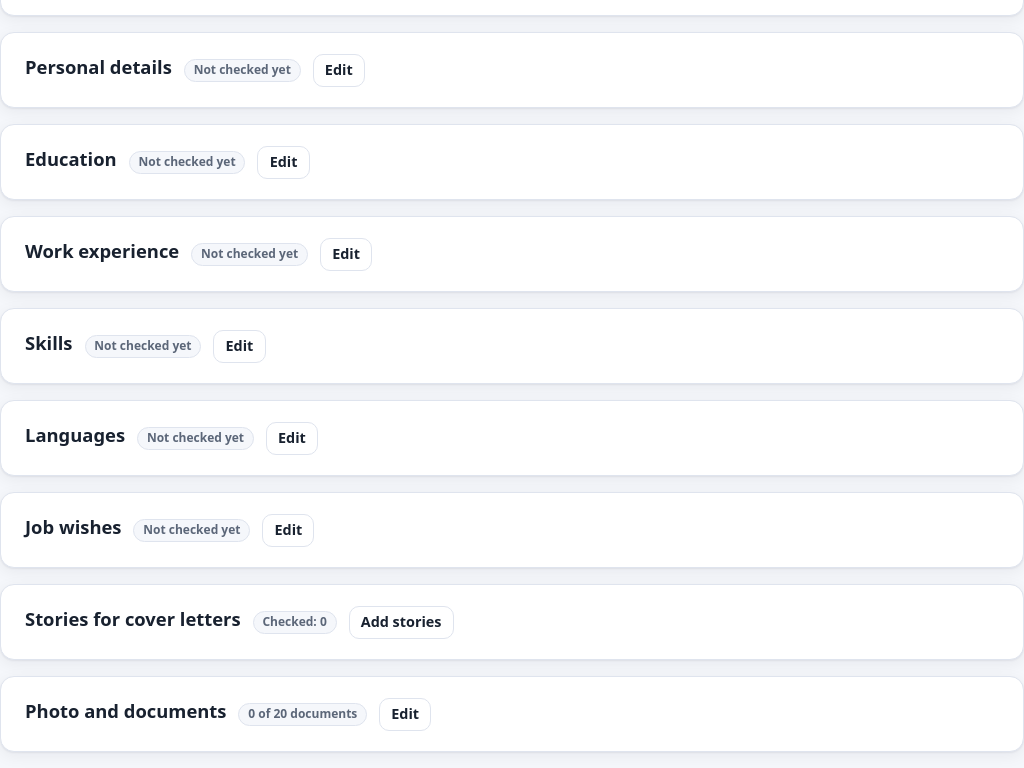
Scenario: ProfilePage overview: unsaved changes are never dropped silently › holds Close of the stories panel while "never mention" has unsaved changes
This screenshot has width=1024, height=768.
(page scrolled)
Click the button "Add stories" at (401, 622), box [348,606,454,639]
(page scrolled)
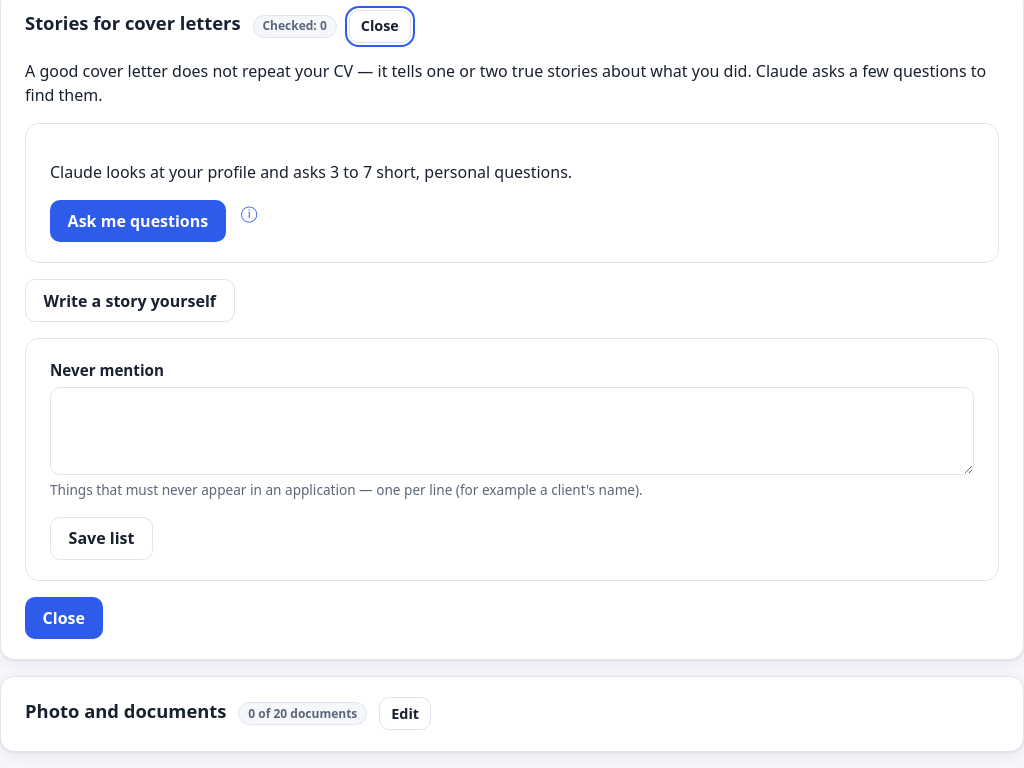
Type "Kunde X" into the text box labelled "Never mention" at (512, 431), box [50,387,974,475]
(page scrolled)
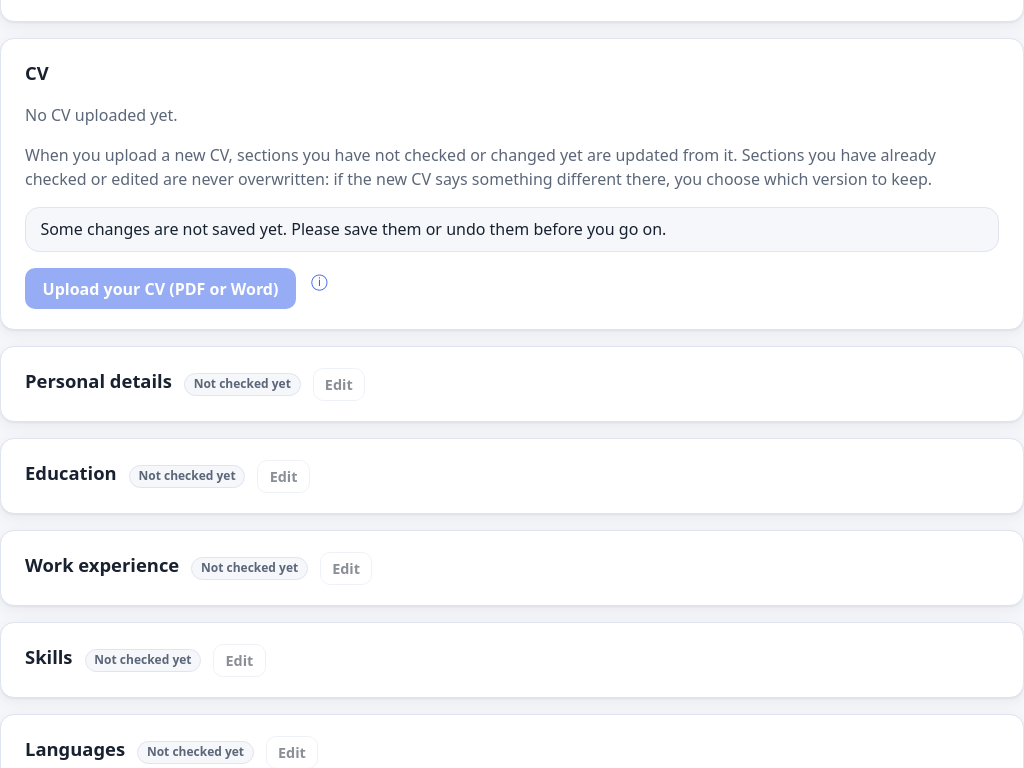
expect the 1st button "Edit" is disabled: met, box [313,368,365,401]
